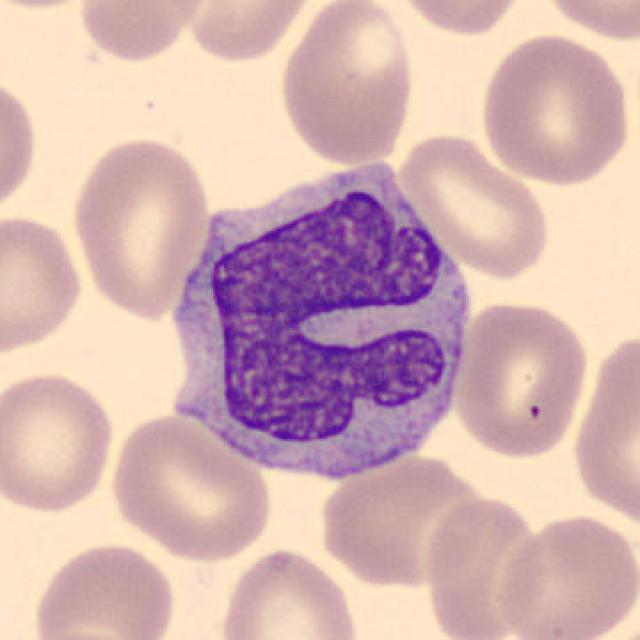Monocyte: (158, 148, 478, 488)
RBC: (66, 132, 213, 321), (103, 411, 277, 562), (314, 448, 498, 590), (476, 28, 633, 189), (393, 129, 553, 282), (274, 0, 418, 167), (448, 296, 592, 462), (418, 490, 548, 640), (492, 509, 638, 640), (0, 366, 117, 516), (26, 537, 179, 640), (567, 323, 640, 536), (215, 545, 363, 640), (0, 210, 87, 360), (176, 0, 320, 65), (73, 0, 210, 65), (0, 71, 41, 222), (389, 0, 534, 39), (533, 0, 640, 44), (26, 627, 142, 640), (0, 0, 106, 12)
